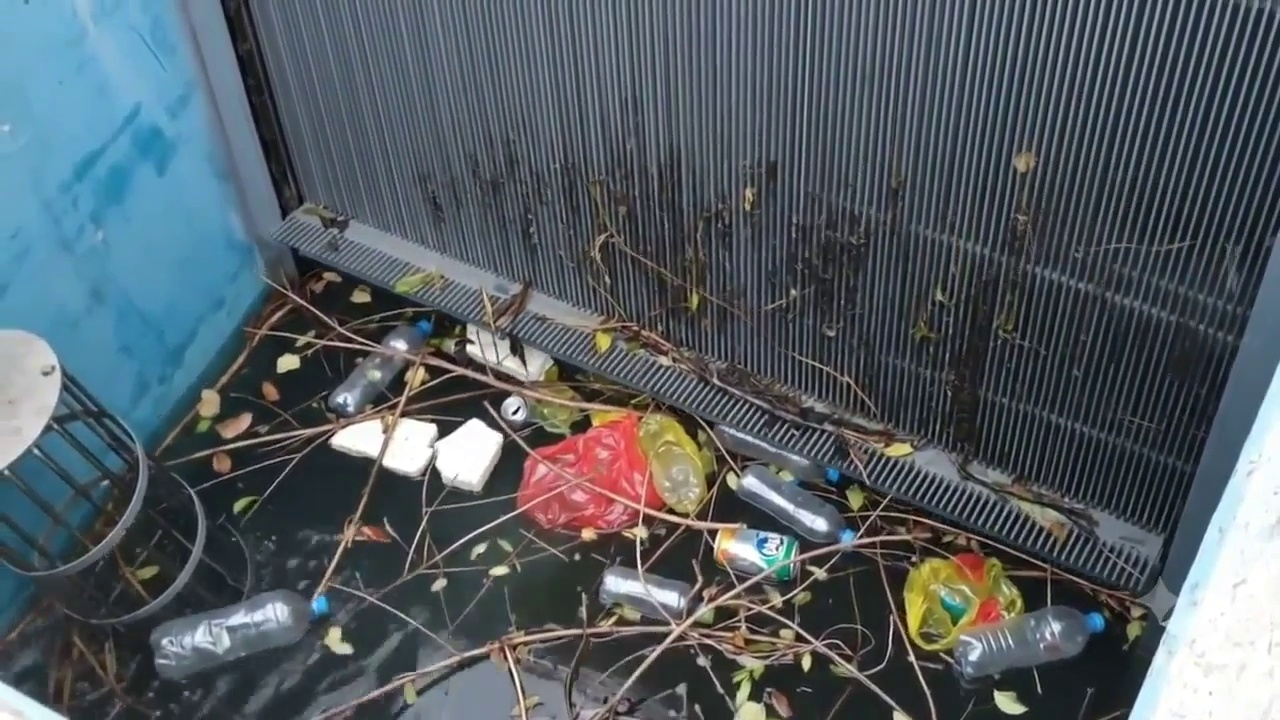debris: (323, 342, 968, 719), (517, 414, 663, 530), (150, 590, 329, 680), (903, 553, 1023, 650), (954, 605, 1106, 681), (327, 319, 433, 417), (735, 465, 855, 543), (639, 412, 709, 514), (711, 424, 831, 481), (330, 418, 438, 477), (597, 566, 693, 621), (435, 418, 504, 493), (465, 325, 553, 381), (713, 528, 798, 582), (500, 384, 581, 434), (527, 384, 581, 434), (1009, 498, 1070, 540), (483, 280, 531, 332), (393, 271, 443, 293), (214, 412, 252, 439), (500, 394, 530, 428), (695, 427, 717, 473), (323, 625, 353, 655), (764, 688, 793, 719), (993, 690, 1027, 715), (352, 526, 392, 543), (510, 695, 540, 717), (197, 390, 220, 418), (911, 317, 937, 341), (734, 673, 752, 706), (734, 701, 767, 719), (406, 365, 429, 390), (1012, 150, 1037, 173), (1125, 619, 1145, 647), (845, 484, 865, 511), (275, 353, 300, 373), (233, 496, 260, 514), (489, 646, 507, 672), (211, 452, 232, 474), (881, 443, 914, 457), (260, 380, 280, 403), (593, 330, 613, 353), (131, 565, 159, 581), (763, 585, 782, 607), (621, 525, 648, 540), (349, 285, 371, 303), (770, 467, 795, 482), (294, 329, 316, 346), (742, 186, 756, 212), (306, 277, 328, 293), (829, 664, 854, 678), (805, 565, 828, 580), (470, 541, 488, 560), (542, 362, 559, 382), (792, 590, 812, 607), (403, 682, 417, 705), (934, 284, 949, 305), (725, 470, 739, 491), (687, 290, 700, 312), (1128, 603, 1147, 618), (495, 538, 513, 553), (488, 564, 510, 576), (430, 577, 447, 592), (580, 527, 598, 541), (778, 627, 796, 641), (321, 270, 342, 282), (800, 652, 812, 672), (195, 418, 211, 433), (892, 708, 911, 719)
